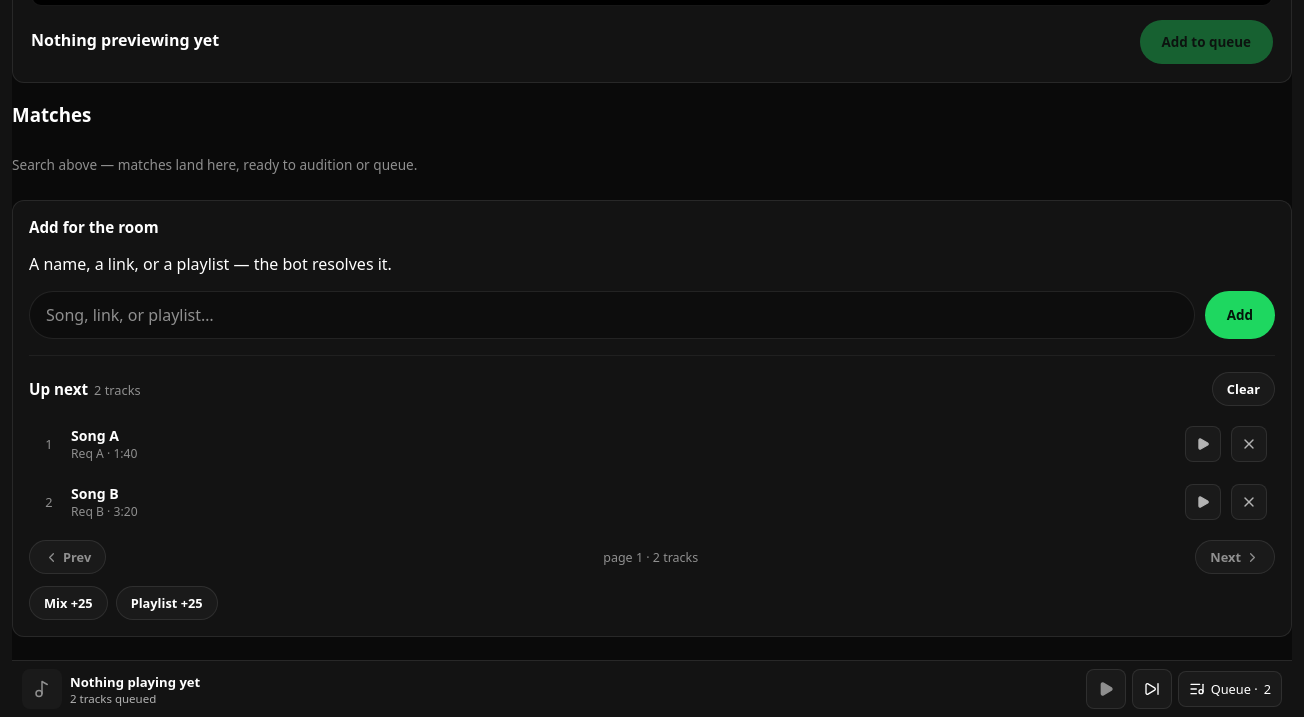
player + queue (Checkpoint 3) › queue rows render from the snapshot and remove targets the stable qid
(page scrolled)
Expected: the text "Song A" is shown, [71,426,119,446]
Expected: the text "Song B" is shown, [71,484,119,504]
Click the button named "Remove Song B from the queue" at (1249, 502), box [1231,484,1267,520]
(page scrolled)
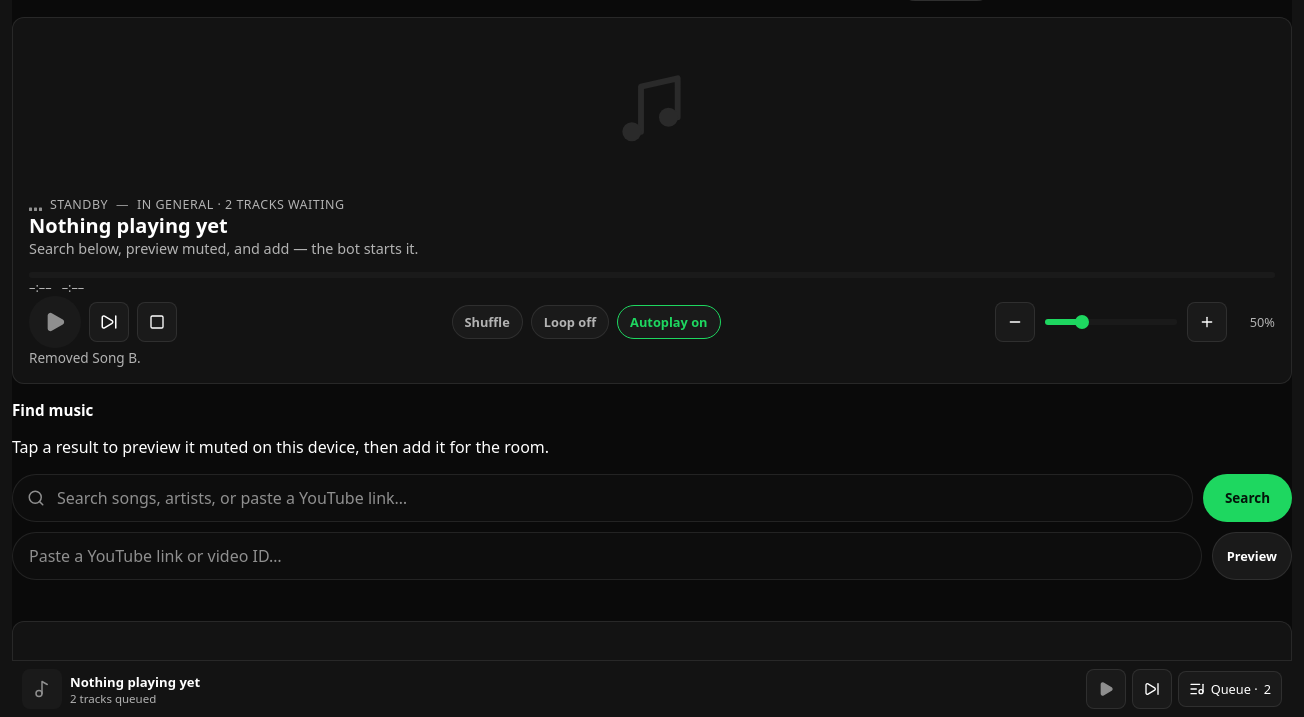
Expected: the text "Removed Song B." is shown, [29,348,141,367]
